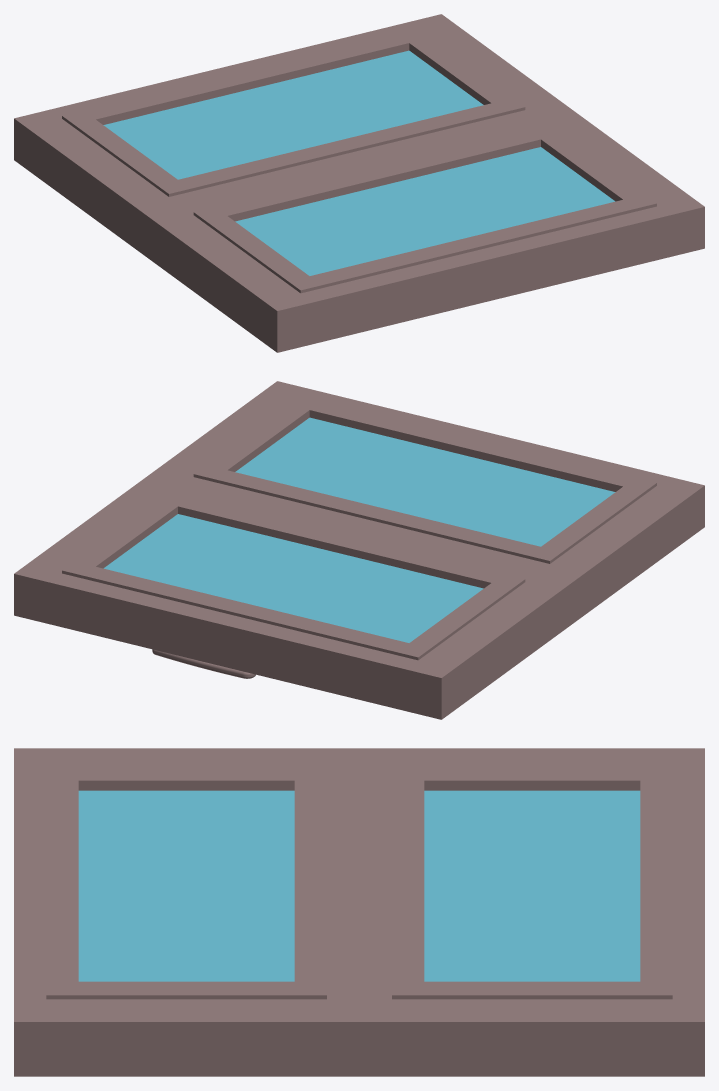
Rendered from 38 Series 2 Panels.fbx.
3 views of the same model, one above another, from view 1: azimuth 30°, elevation 25°; view 2: azimuth 150°, elevation 25°; view 3: azimuth 270°, elevation 25° (orthographic). The views are drawn at different scales.
Parts seen in each view (by area): view 1: Body8, Body16, Body13, Body3, Body1, Body9; view 2: Body16, Body8, Body3, Body13, Body9, Body1, Body15; view 3: Body8, Body16, Body3, Body13, Body1, Body9.
Part boxes in pixels (left/top/right/bottom): Body8: left=145, top=110, right=704, bottom=352; Body16: left=14, top=14, right=572, bottom=256; Body13: left=103, top=50, right=483, bottom=179; Body3: left=235, top=147, right=615, bottom=275; Body1: left=193, top=125, right=656, bottom=293; Body9: left=62, top=29, right=525, bottom=196; Body16: left=14, top=477, right=573, bottom=719; Body8: left=146, top=381, right=704, bottom=623; Body3: left=235, top=417, right=615, bottom=546; Body13: left=103, top=514, right=483, bottom=642; Body9: left=62, top=492, right=525, bottom=660; Body1: left=193, top=396, right=656, bottom=563; Body15: left=152, top=649, right=255, bottom=678; Body8: left=14, top=748, right=359, bottom=1076; Body16: left=359, top=748, right=704, bottom=1076; Body3: left=78, top=790, right=294, bottom=981; Body13: left=424, top=790, right=640, bottom=981; Body1: left=46, top=767, right=326, bottom=999; Body9: left=392, top=767, right=672, bottom=999.
Bounding box in the file's own units: 30 × 4.5 × 32.
